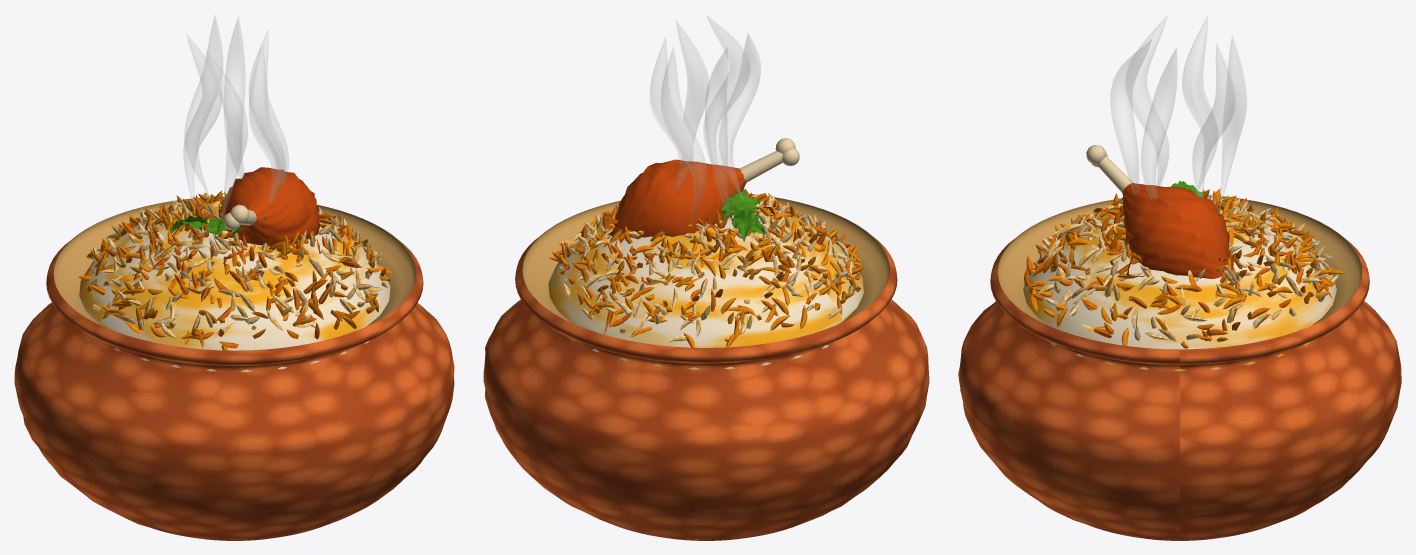
Rendered from steaming-biryani-handi.glb.
3 views of the same model, side by side, from view 1: azimuth 30°, elevation 25°; view 2: azimuth 150°, elevation 25°; view 3: azimuth 270°, elevation 25° (orthographic).
Parts seen in each view (by area): view 1: steaming-handi-vessel, steaming-biryani-rice, aromatic-steam-wisps, object 2, object 4, object 7, object 5; view 2: steaming-handi-vessel, steaming-biryani-rice, aromatic-steam-wisps, object 4, object 2, object 7, object 5; view 3: steaming-handi-vessel, steaming-biryani-rice, aromatic-steam-wisps, object 4, object 2, object 5.
Part boxes in pixels (bbox=[...]): steaming-handi-vessel: bbox=[14, 236, 454, 540]; steaming-biryani-rice: bbox=[78, 190, 392, 372]; aromatic-steam-wisps: bbox=[183, 15, 288, 220]; object 2: bbox=[31, 196, 435, 326]; object 4: bbox=[220, 167, 320, 246]; object 7: bbox=[170, 215, 265, 236]; object 5: bbox=[223, 204, 256, 230]; steaming-handi-vessel: bbox=[483, 232, 929, 540]; steaming-biryani-rice: bbox=[548, 188, 864, 369]; aromatic-steam-wisps: bbox=[650, 14, 760, 223]; object 4: bbox=[611, 159, 746, 237]; object 2: bbox=[509, 194, 904, 323]; object 7: bbox=[721, 188, 764, 241]; object 5: bbox=[739, 138, 799, 182]; steaming-handi-vessel: bbox=[958, 236, 1401, 540]; steaming-biryani-rice: bbox=[1023, 188, 1344, 371]; aromatic-steam-wisps: bbox=[1110, 15, 1246, 208]; object 4: bbox=[1122, 183, 1229, 278]; object 2: bbox=[975, 195, 1384, 325]; object 5: bbox=[1086, 145, 1133, 192].
Size of the model in its own units: 0.2853 by 0.335 by 0.2869.
Materials: 8 (8 with a texture image).
